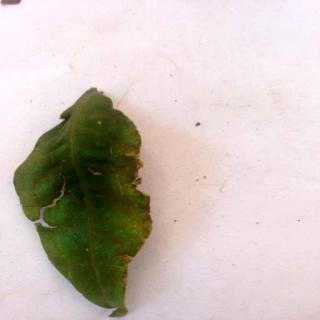Brown Blight: (13, 88, 156, 320)
